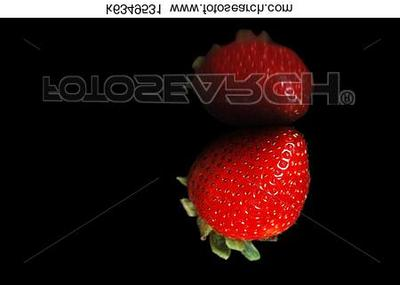strawberry: (0, 0, 400, 285)
